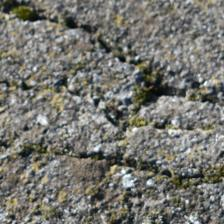Crack: (83, 61, 138, 158), (156, 177, 224, 224)
